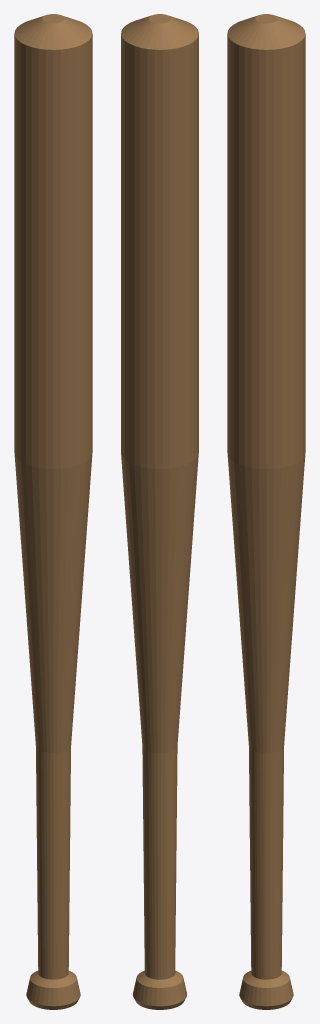
The model's file is bat.glb.
3 renders of one model, left to right at view 1: azimuth 90°, elevation 25°; view 2: azimuth 150°, elevation 25°; view 3: azimuth 270°, elevation 25°, orthographic.
Parts seen in each view (by area): view 1: Cylinder; view 2: Cylinder; view 3: Cylinder.
Boxes of the visible parts, left/top/right/bottom form: Cylinder: left=14, top=14, right=92, bottom=1009; Cylinder: left=121, top=14, right=198, bottom=1009; Cylinder: left=227, top=14, right=305, bottom=1009.
Size of the model in its own units: 1 by 13.86 by 1.
